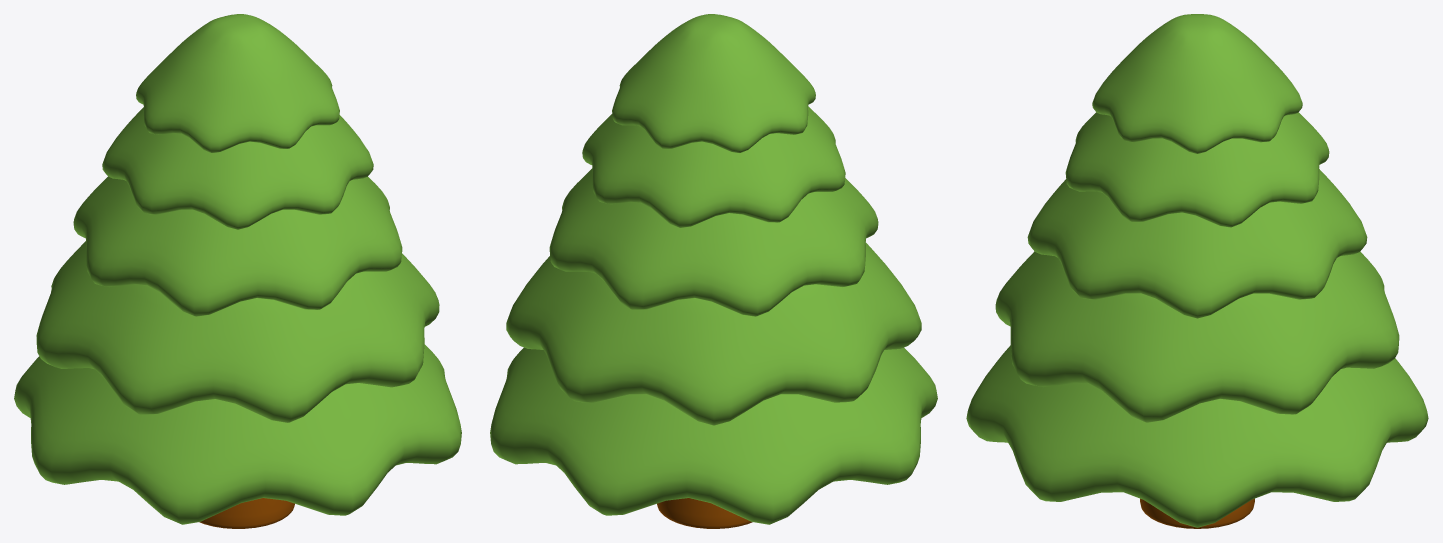
File: Tree4.fbx
3 views of the same model, side by side, from view 1: azimuth 30°, elevation 25°; view 2: azimuth 150°, elevation 25°; view 3: azimuth 270°, elevation 25° (orthographic).
Parts seen in each view (by area): view 1: Cylinder.022, Cylinder.018, Cylinder.019, Cylinder.021, Cylinder.020, Cylinder.024; view 2: Cylinder.022, Cylinder.018, Cylinder.019, Cylinder.021, Cylinder.020, Cylinder.024; view 3: Cylinder.022, Cylinder.018, Cylinder.019, Cylinder.021, Cylinder.020, Cylinder.024.
Boxes of the visible parts, bbox=[...] form: Cylinder.022: bbox=[14, 344, 461, 524]; Cylinder.018: bbox=[36, 241, 439, 422]; Cylinder.019: bbox=[73, 176, 402, 316]; Cylinder.021: bbox=[136, 14, 339, 152]; Cylinder.020: bbox=[102, 107, 373, 229]; Cylinder.024: bbox=[199, 498, 294, 528]; Cylinder.022: bbox=[490, 347, 937, 524]; Cylinder.018: bbox=[506, 242, 921, 425]; Cylinder.019: bbox=[549, 168, 878, 316]; Cylinder.021: bbox=[612, 14, 815, 152]; Cylinder.020: bbox=[582, 106, 845, 227]; Cylinder.024: bbox=[657, 498, 752, 528]; Cylinder.022: bbox=[966, 345, 1428, 527]; Cylinder.018: bbox=[995, 251, 1399, 422]; Cylinder.019: bbox=[1027, 169, 1367, 318]; Cylinder.021: bbox=[1092, 14, 1302, 153]; Cylinder.020: bbox=[1065, 112, 1329, 227]; Cylinder.024: bbox=[1140, 498, 1254, 528].
Size of the model in its own units: 253 by 293 by 253.
